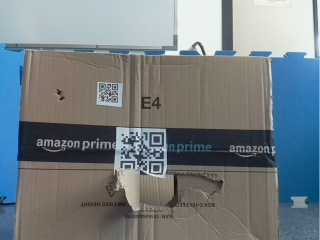caja_rota: (20, 57, 271, 240)
